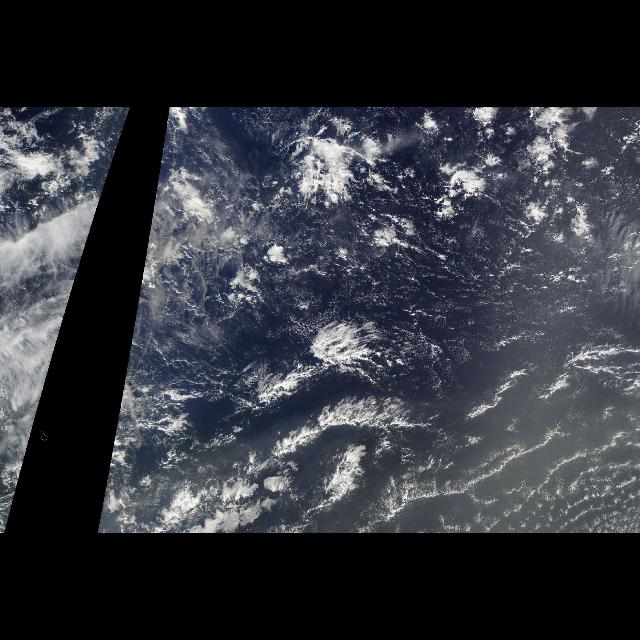Sugar: (386, 218, 640, 376)
